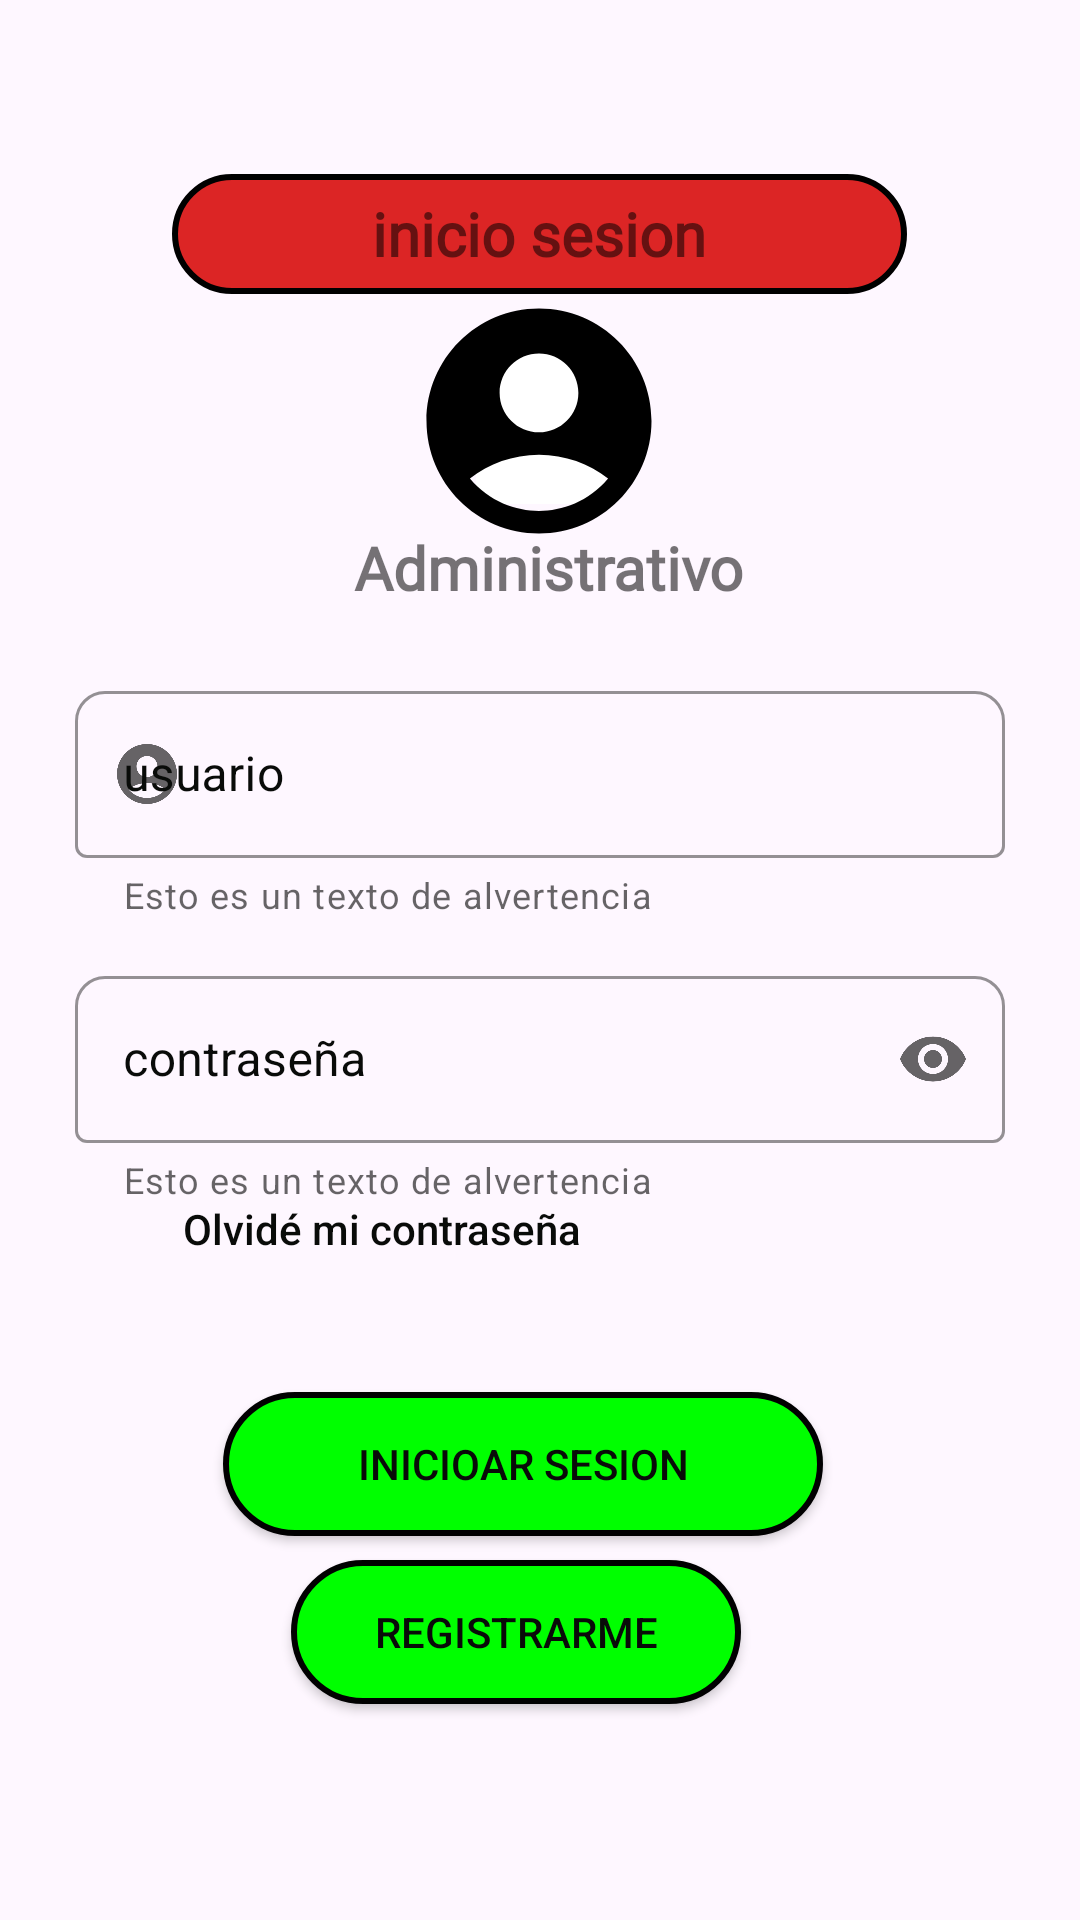

Screen size 1080x1920. Icon name, then its center in pixels as point (x, y):
user: point (539, 421)
